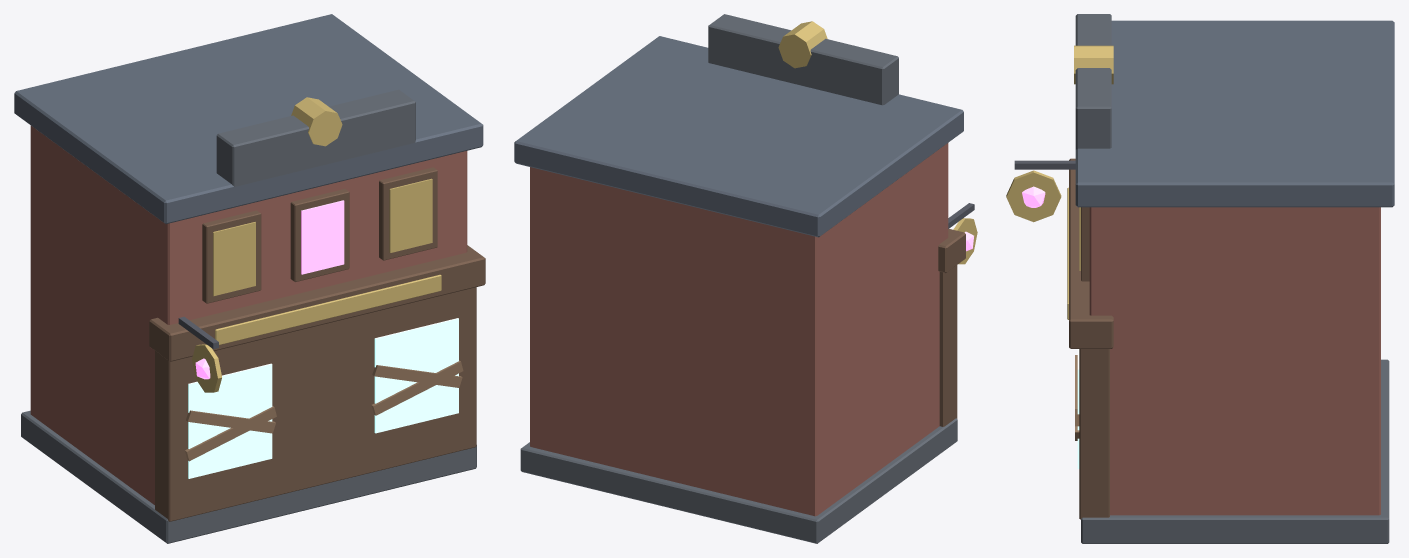
The model's file is outdoor_shop.glb.
The picture shows the model from 3 angles, left to right: view 1: azimuth 30°, elevation 25°; view 2: azimuth 150°, elevation 25°; view 3: azimuth 270°, elevation 25°; orthographic projection. The views are drawn at different scales.
Parts seen in each view (by area): view 1: Outdoor_Shop; view 2: Outdoor_Shop; view 3: Outdoor_Shop.
Part boxes in pixels (x1=…): Outdoor_Shop: x1=14, y1=14, x2=485, y2=543; Outdoor_Shop: x1=514, y1=14, x2=977, y2=543; Outdoor_Shop: x1=1006, y1=14, x2=1394, y2=543.
Size of the model in its own units: 7.91 by 9.43 by 7.93.
